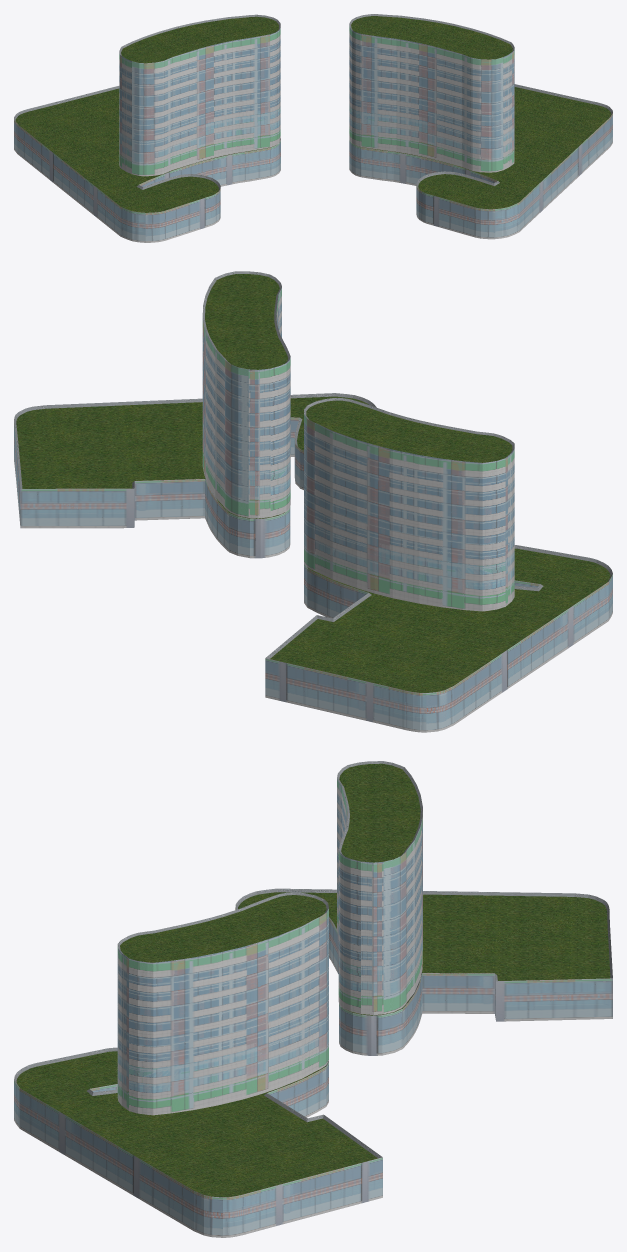
File: shangyelou1.gltf
3 renders of one model, top to bottom at view 1: azimuth 30°, elevation 25°; view 2: azimuth 150°, elevation 25°; view 3: azimuth 270°, elevation 25°, orthographic. The views are drawn at different scales.
Visible parts, largest first — view 1: Line001, Line002; view 2: Line001, Line002; view 3: Line002, Line001.
Part boxes in pixels (bbox=[...]): Line001: bbox=[14, 14, 280, 242]; Line002: bbox=[349, 14, 612, 239]; Line001: bbox=[265, 398, 612, 732]; Line002: bbox=[14, 271, 376, 558]; Line002: bbox=[14, 892, 382, 1237]; Line001: bbox=[235, 761, 612, 1055].
Size of the model in its own units: 1273 by 372 by 1043.
8 materials, 8 textured.
